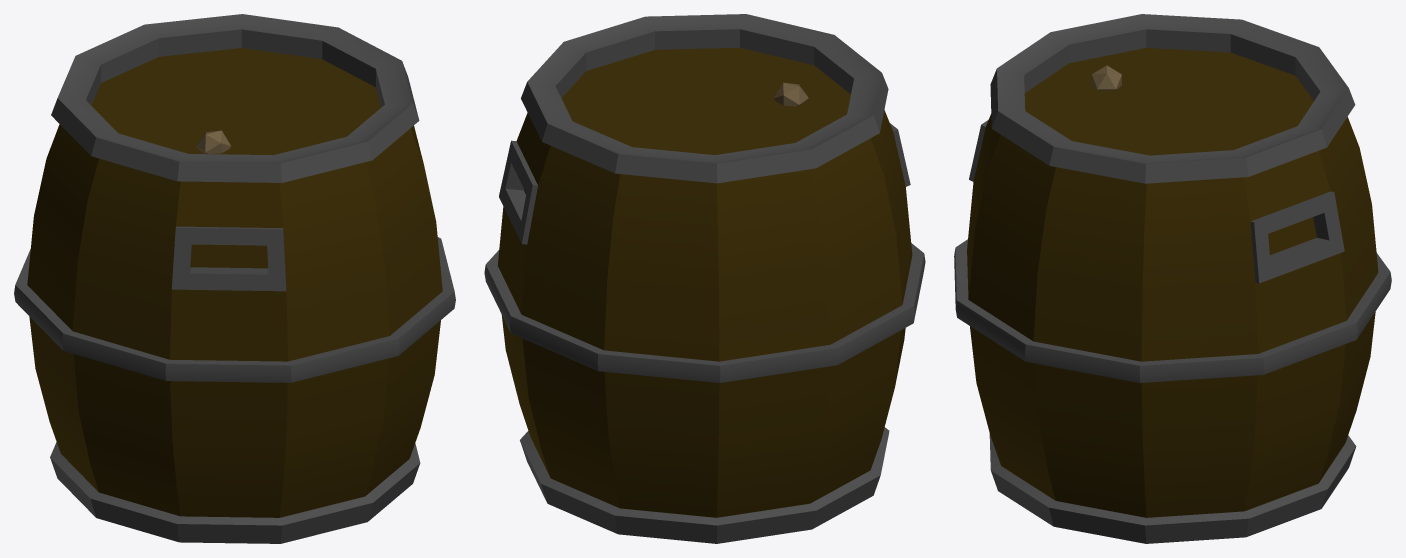
The model's file is varil.fbx.
3 renders of one model, left to right at view 1: azimuth 30°, elevation 25°; view 2: azimuth 150°, elevation 25°; view 3: azimuth 270°, elevation 25°, orthographic.
Parts seen in each view (by area): view 1: Varil; view 2: Varil; view 3: Varil.
Boxes of the visible parts, left/top/right/bottom form: Varil: left=14, top=14, right=455, bottom=543; Varil: left=484, top=14, right=925, bottom=543; Varil: left=954, top=14, right=1391, bottom=543.
Bounding box in the file's own units: 2.62 × 2.49 × 2.6.
